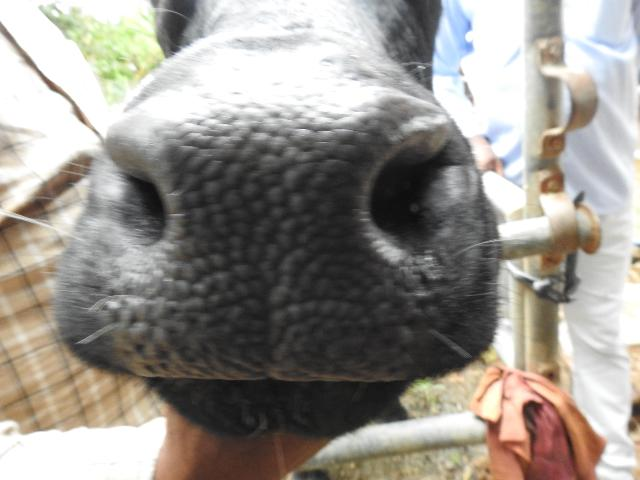Muzzle: (130, 114, 394, 370)
